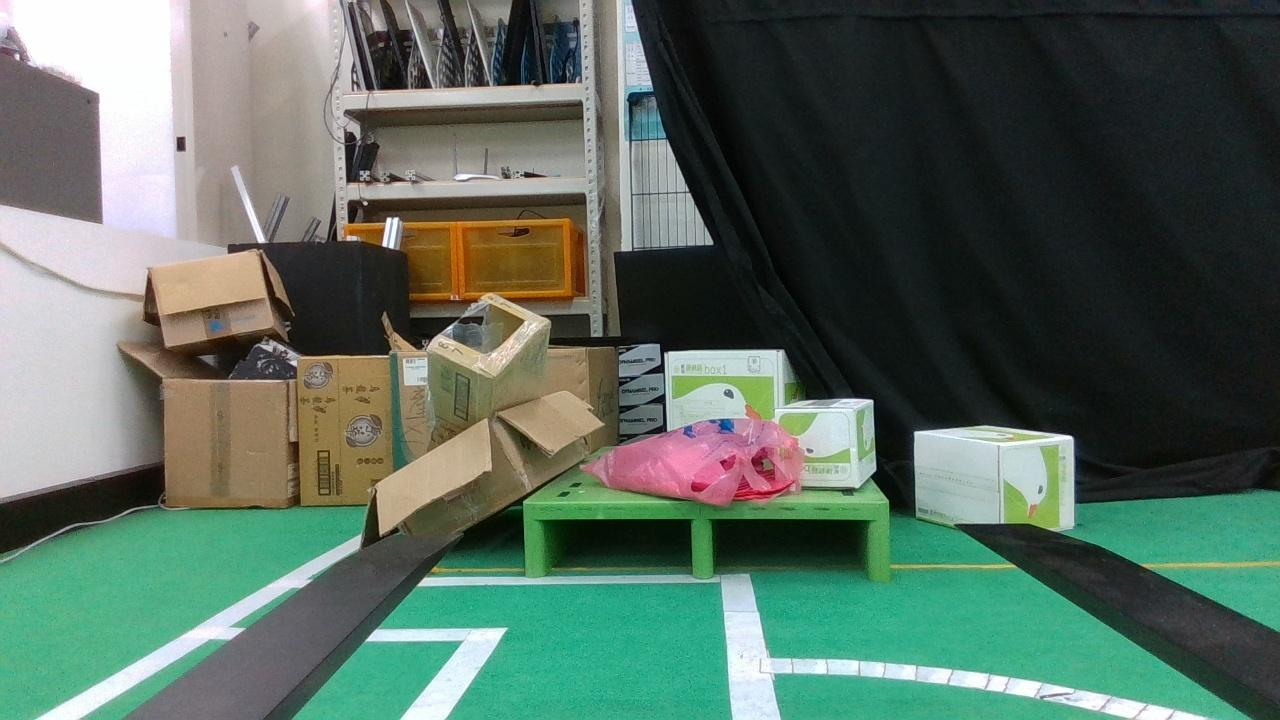Pallet: (525, 501, 893, 585)
